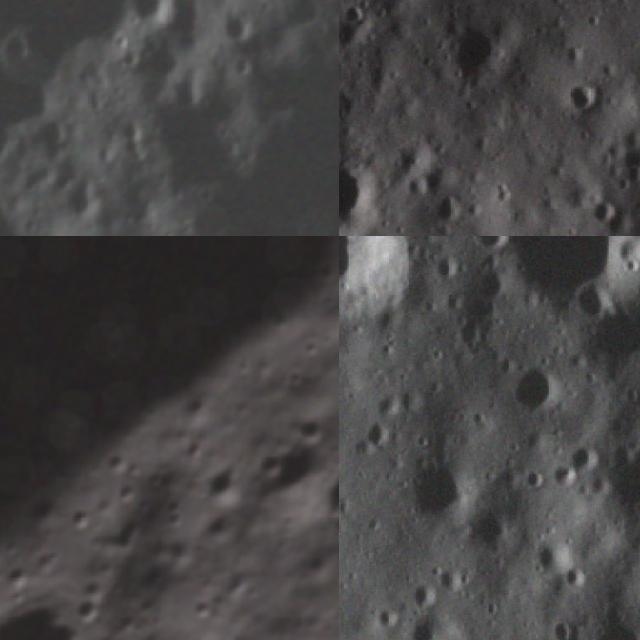crater: (474, 236, 640, 332), (239, 419, 339, 522), (430, 6, 523, 102), (339, 236, 429, 335), (0, 576, 110, 640), (398, 448, 482, 530), (577, 282, 640, 381), (501, 354, 570, 430), (339, 150, 387, 236), (462, 500, 527, 560), (304, 452, 339, 560), (197, 459, 255, 517), (100, 507, 155, 565), (566, 275, 622, 331), (94, 438, 149, 492), (466, 254, 519, 304), (555, 73, 607, 122), (421, 187, 472, 236), (446, 0, 554, 22), (528, 530, 578, 576), (622, 513, 640, 636), (431, 550, 474, 600), (200, 504, 246, 550), (581, 185, 626, 232), (584, 603, 640, 640), (291, 408, 337, 453), (369, 382, 413, 428), (401, 609, 460, 640), (252, 446, 294, 489), (184, 592, 227, 634), (447, 311, 488, 354), (563, 437, 606, 478), (65, 501, 107, 542), (360, 418, 398, 460), (406, 578, 443, 616), (429, 243, 465, 281), (464, 236, 518, 260), (0, 30, 33, 69), (178, 432, 213, 468), (131, 0, 178, 26), (610, 236, 640, 274), (299, 334, 332, 367), (558, 562, 590, 592), (119, 478, 148, 509), (226, 13, 254, 42), (622, 192, 640, 236), (236, 61, 259, 80)
